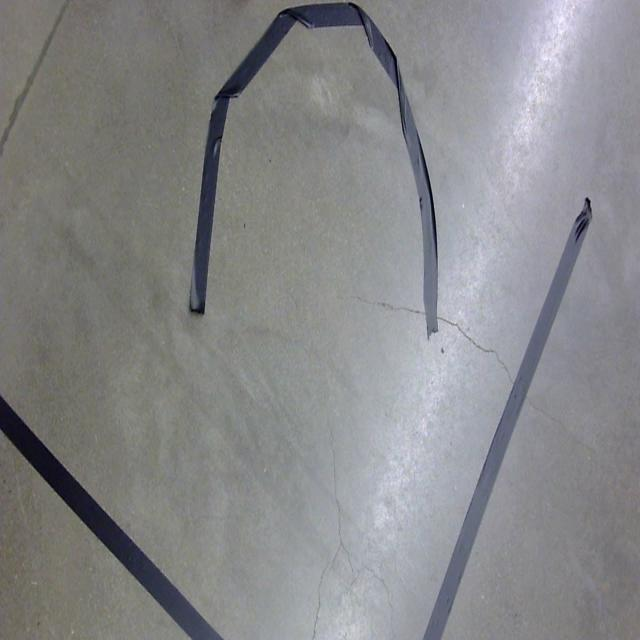tape: (185, 3, 444, 338), (420, 190, 601, 639), (0, 390, 228, 638)
